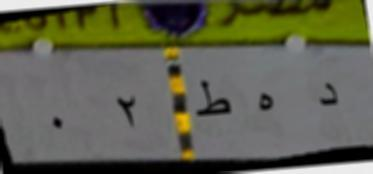0: (39, 108, 70, 139)
2: (114, 89, 142, 132)
Taa: (191, 76, 235, 124)
daal: (310, 72, 346, 115)
haa: (251, 88, 282, 119)
